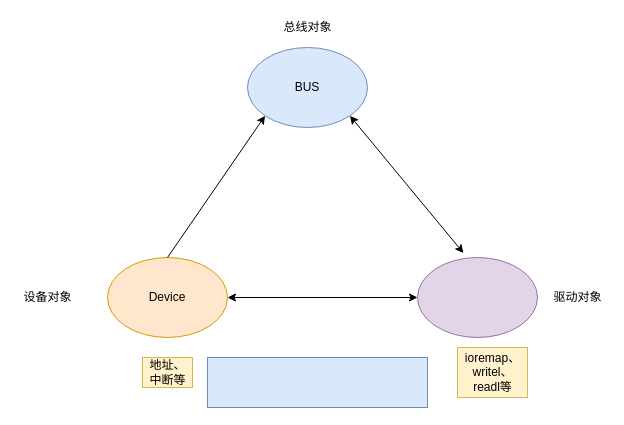
The diagram is 624 pixels wide and 425 high, and some of its shapes have lost their labels. The shapes that lost their labels are listed below. From the top down, each one's centre as x and y in pixels, then its label:
At pixel 477 297: "Driver".
At pixel 317 382: "一套Driver可以用在不同的板子上。 只需要修改Device就行了。 降低驱动与硬件耦合，提高代码复用率".
